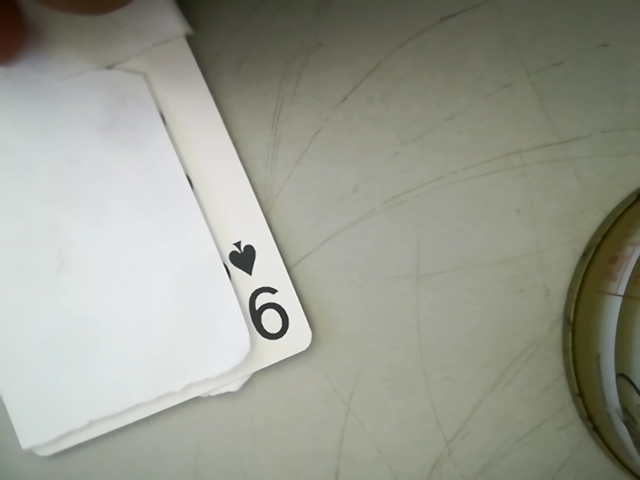ht 9: (218, 224, 296, 357)
